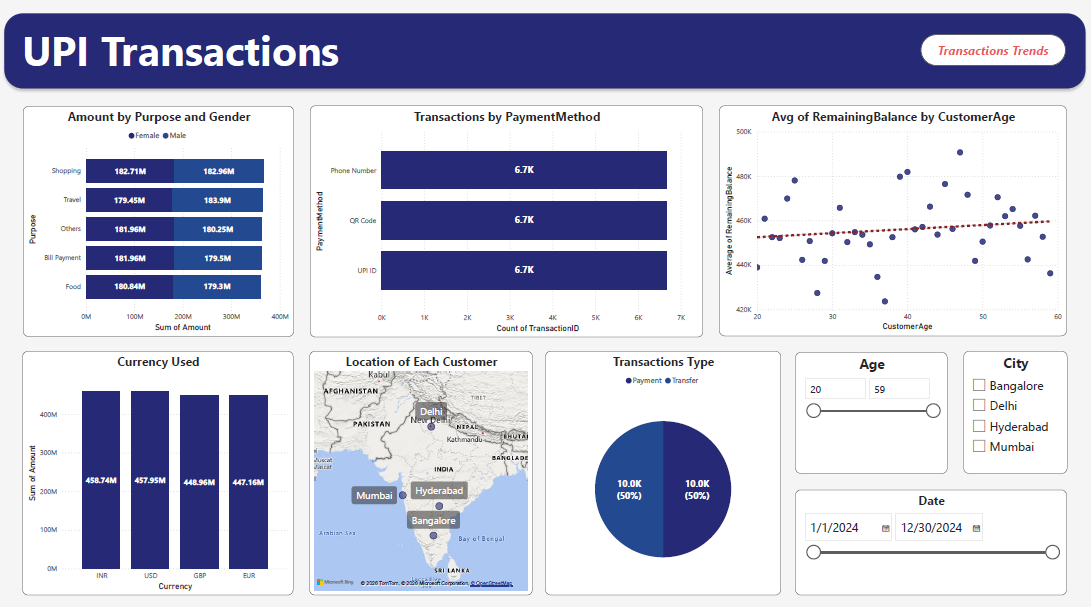

What the dashboard file says about the page in this screenshot:
{"tool":"powerbi","page":{"name":"User Behavior","canvas":[1920,1080],"ordinal":0},"visuals":[{"type":"barChart","title":"Amount by Purpose and Gender","fields":{"Category":["df_transactions.Purpose"],"Series":["df_customer.Gender"],"Y":["Sum(df_transactions.Amount)"]},"box":[40.8,188.9,477,406.2],"z":0},{"type":"columnChart","title":" Currency Used","fields":{"Category":["df_transactions.Currency"],"Y":["Sum(df_transactions.Amount)"]},"box":[40,620.3,477,429.7],"z":1000},{"type":"map","title":"Location of Each Customer","fields":{"Category":["df_customer.City"]},"box":[545,620,392.5,430],"z":2000},{"type":"pieChart","title":"Transactions Type","fields":{"Y":["CountNonNull(df_transactions.TransactionID)"],"Category":["df_transactions.TransactionType"]},"box":[960,620,415,430],"z":3000},{"type":"scatterChart","title":"Avg of RemainingBalance by CustomerAge","fields":{"X":["df_customer.CustomerAge"],"Y":["df_customer.RemainingBalance"]},"box":[1266,188,612,406],"z":4000},{"type":"slicer","title":"Age","fields":{"Values":["df_customer.CustomerAge"]},"box":[1400,622,268,214],"z":5000},{"type":"slicer","title":"Date","fields":{"Values":["df_transactions.TransactionDate"]},"box":[1400,864,478,186],"z":6000},{"type":"slicer","title":"City","fields":{"Values":["df_customer.City"]},"box":[1695.7,620,182.9,215.7],"z":7000},{"type":"shape","box":[0,16.7,1920,150],"z":8000},{"type":"barChart","title":"Transactions by PaymentMethod","fields":{"Y":["CountNonNull(df_transactions.TransactionID)"],"Category":["df_transactions.PaymentMethod"]},"box":[545.6,187.8,692.2,407.8],"z":9000},{"type":"pageNavigator","box":[1621.4,62.9,255.7,55.7],"z":10000}]}

Visuals, with their boxes in screenshot pixels (x1, y1, x2, y2), scaled from the page's 1920x1080 canvas onto the 1092x607 screenshot:
"Amount by Purpose and Gender" barChart: select_region(23, 106, 294, 334)
" Currency Used" columnChart: select_region(23, 349, 294, 590)
"Location of Each Customer" map: select_region(310, 348, 533, 590)
"Transactions Type" pieChart: select_region(546, 348, 782, 590)
"Avg of RemainingBalance by CustomerAge" scatterChart: select_region(720, 106, 1068, 334)
"Age" slicer: select_region(796, 350, 949, 470)
"Date" slicer: select_region(796, 486, 1068, 590)
"City" slicer: select_region(964, 348, 1068, 470)
shape: select_region(0, 9, 1091, 94)
"Transactions by PaymentMethod" barChart: select_region(310, 106, 704, 335)
pageNavigator: select_region(922, 35, 1068, 67)
